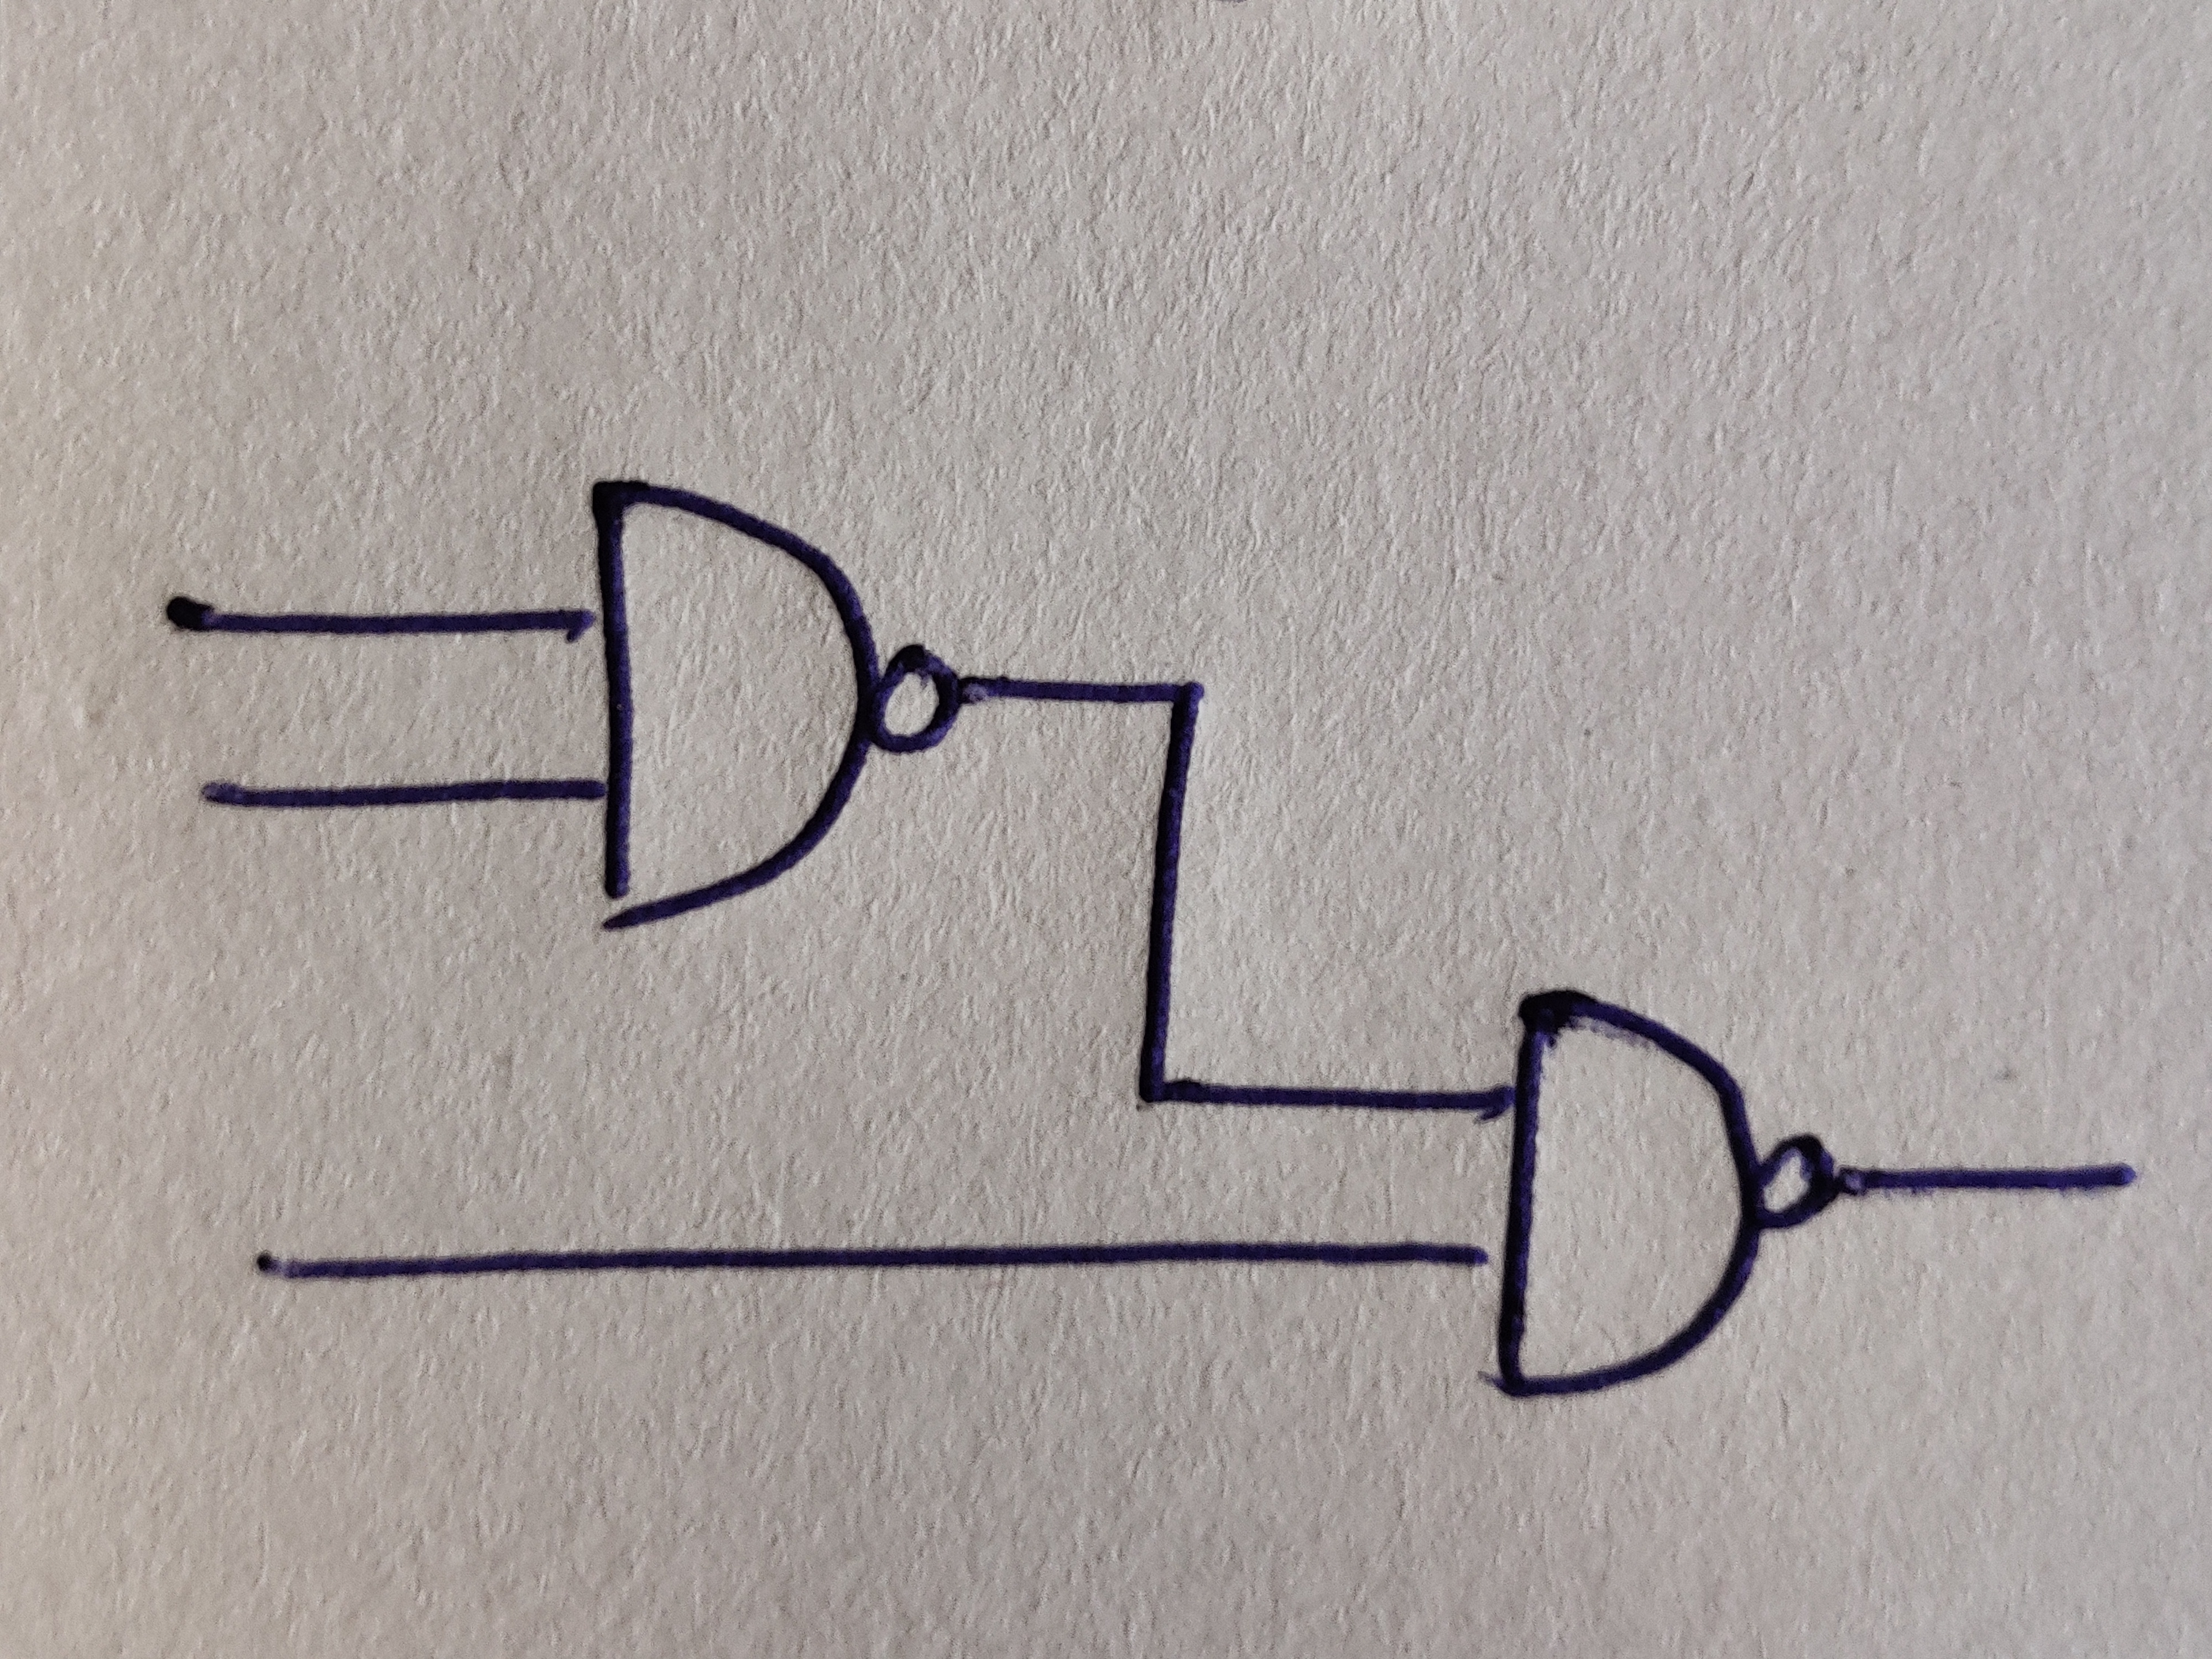and: (592, 479, 881, 931), (1496, 988, 1763, 1398)
not: (873, 647, 963, 755), (1750, 1133, 1839, 1229)
